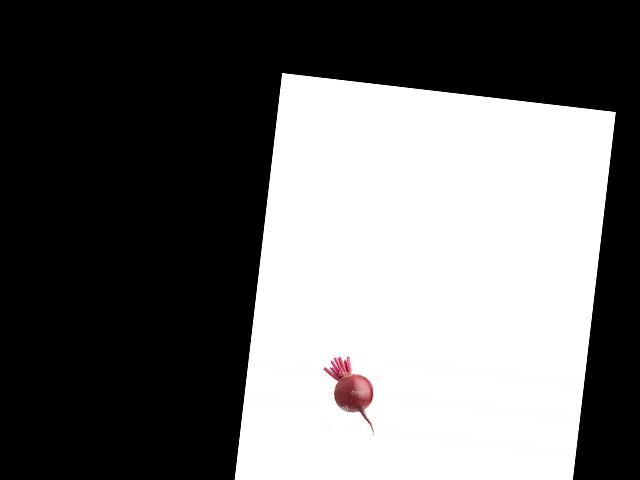beet: (316, 353, 382, 433)
